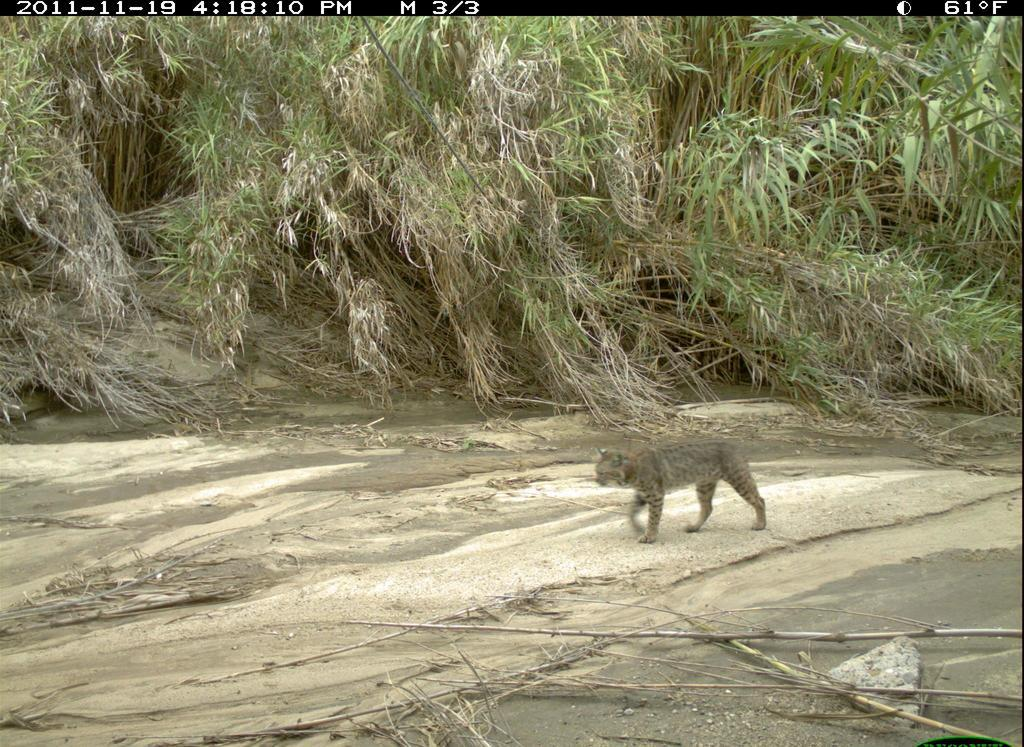bobcat: (592, 425, 783, 545)
